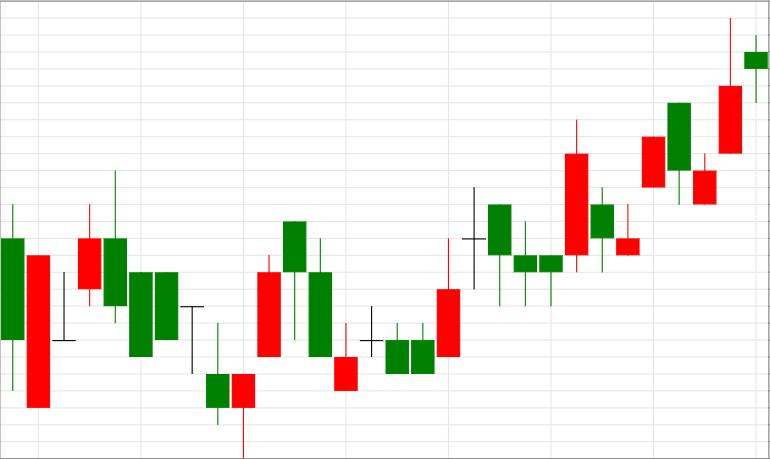hammer_rise: (104, 169, 254, 458)
